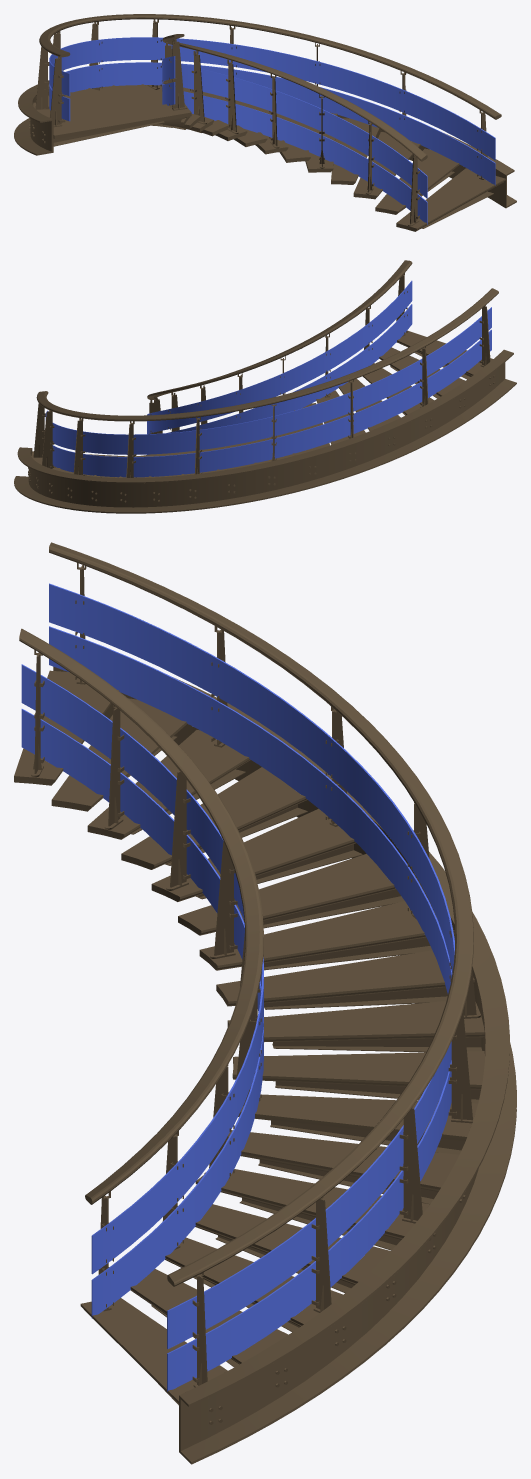
Rendered from Stair_High.FBX.
The picture shows the model from 3 angles, top to bottom: view 1: azimuth 30°, elevation 25°; view 2: azimuth 150°, elevation 25°; view 3: azimuth 270°, elevation 25°; orthographic projection. The views are drawn at different scales.
Parts seen in each view (by area): view 1: Custom 1; view 2: Custom 1; view 3: Custom 1.
Part boxes in pixels (box(x1,y1,x2,y2)): Custom 1: box(14, 14, 516, 231); Custom 1: box(14, 260, 516, 513); Custom 1: box(14, 542, 516, 1464).
Size of the model in its own units: 7.42 by 4.09 by 3.65.
